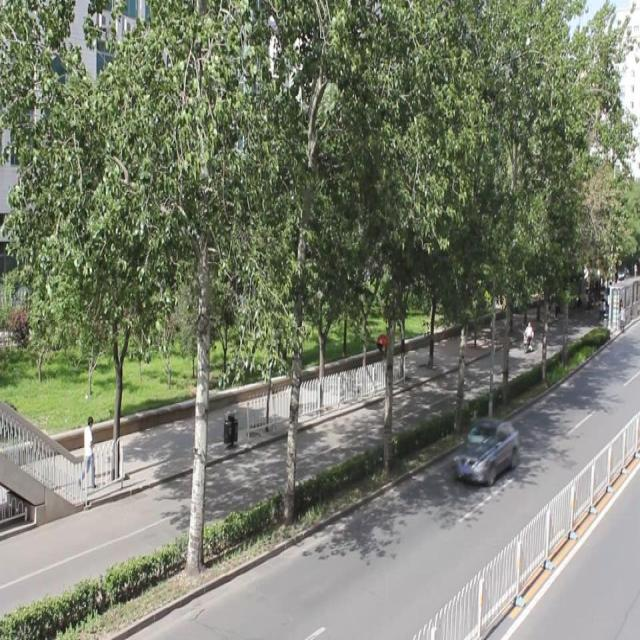car: (450, 415, 518, 483)
